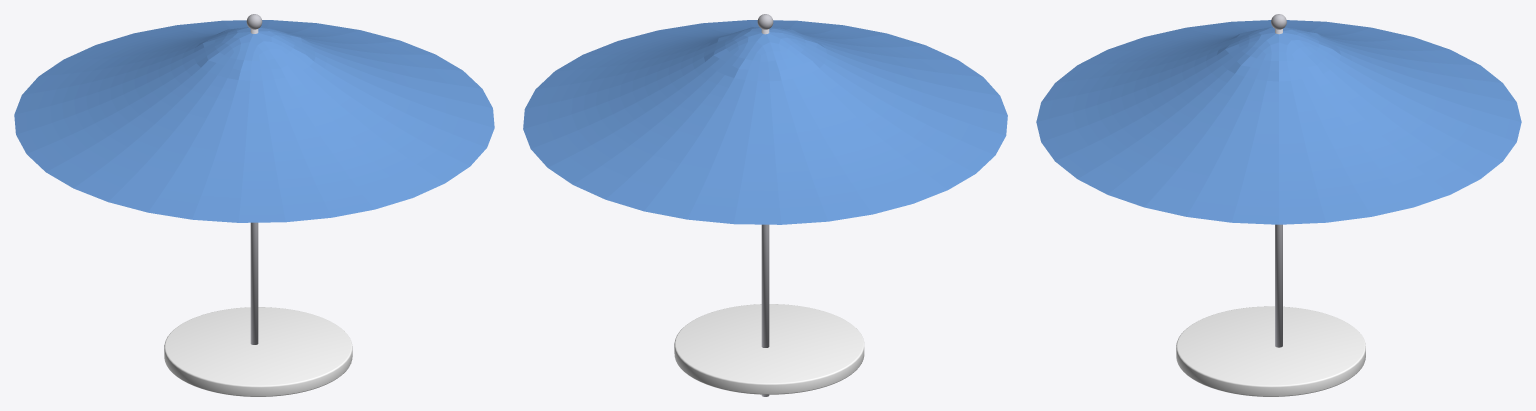
3 views of the same model, side by side, from view 1: azimuth 30°, elevation 25°; view 2: azimuth 150°, elevation 25°; view 3: azimuth 270°, elevation 25° (orthographic).
Parts seen in each view (by area): view 1: Telo_Ombrellone, Cylinder, Cylinder.001; view 2: Telo_Ombrellone, Cylinder, Cylinder.001; view 3: Telo_Ombrellone, Cylinder, Cylinder.001.
Boxes of the visible parts, x1,y1,x2,y2 form: Telo_Ombrellone: (14, 20, 494, 222); Cylinder: (164, 307, 352, 396); Cylinder.001: (250, 29, 258, 344); Telo_Ombrellone: (523, 20, 1007, 224); Cylinder: (674, 304, 864, 394); Cylinder.001: (761, 29, 769, 396); Telo_Ombrellone: (1036, 20, 1521, 224); Cylinder: (1176, 306, 1365, 396); Cylinder.001: (1275, 29, 1282, 347).
Bounding box in the file's own units: 3.07 × 2.65 × 3.07.
